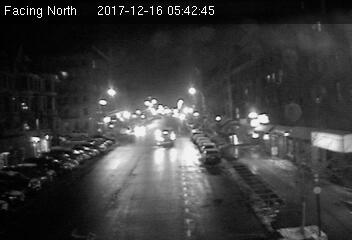car: (201, 149, 220, 166)
